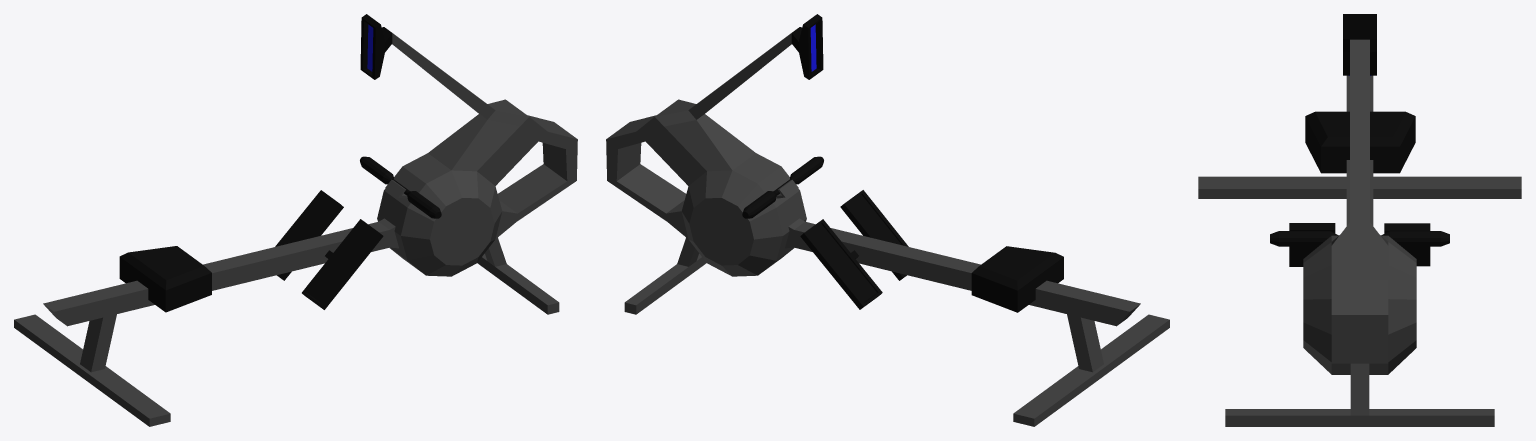
File: RowingMachine.fbx
3 views of the same model, side by side, from view 1: azimuth 30°, elevation 25°; view 2: azimuth 150°, elevation 25°; view 3: azimuth 270°, elevation 25° (orthographic). The views are drawn at different scales.
Visible parts, largest first — view 1: RowingMachine; view 2: RowingMachine; view 3: RowingMachine.
Part boxes in pixels (bbox=[...]): RowingMachine: bbox=[14, 14, 577, 426]; RowingMachine: bbox=[606, 14, 1169, 426]; RowingMachine: bbox=[1198, 14, 1521, 426].
Size of the model in its own units: 215 by 114 by 97.43.
